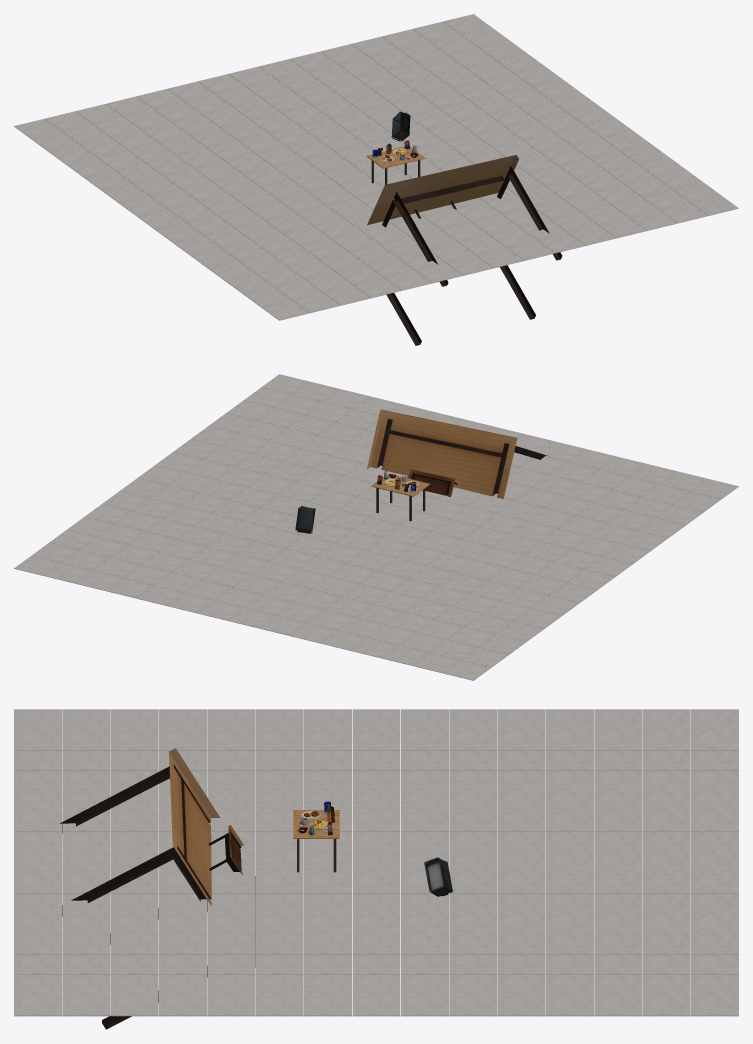
File: viga.glb
The picture shows the model from 3 angles, top to bottom: view 1: azimuth 30°, elevation 25°; view 2: azimuth 150°, elevation 25°; view 3: azimuth 270°, elevation 25°; orthographic projection. The views are drawn at different scales.
Parts seen in each view (by area): view 1: wooden_table_mesh, Stone floor tile, Stone floor tile.150, Stone floor tile.015, Stone floor tile.075, Stone floor tile.090, Stone floor tile.105, Stone floor tile.120, Stone floor tile.165, Stone floor tile.030, Stone floor tile.045, Stone floor tile.060 (+182 smaller); view 2: wooden_table_mesh, wooden_tabletop_mesh, Stone floor tile.014, Stone floor tile.074, Stone floor tile.089, Stone floor tile.194, Stone floor tile.029, Stone floor tile.059, Stone floor tile.119, Stone floor tile.164, Stone floor tile.179, Stone floor tile.224 (+187 smaller); view 3: wooden_table_mesh, Stone floor tile.211, Stone floor tile.212, Stone floor tile.214, Stone floor tile.215, Stone floor tile.219, Stone floor tile.220, Stone floor tile.222, Stone floor tile.223, Stone floor tile.016, Stone floor tile.017, Stone floor tile.019 (+211 smaller).
Part boxes in pixels (x1,y1,x2,y2): wooden_table_mesh: (367, 155, 562, 345); Stone floor tile: (262, 300, 309, 320); Stone floor tile.150: (568, 225, 616, 245); Stone floor tile.015: (292, 292, 340, 313); Stone floor tile.075: (415, 262, 462, 283); Stone floor tile.090: (446, 255, 493, 275); Stone floor tile.105: (476, 248, 524, 268); Stone floor tile.120: (507, 240, 554, 260); Stone floor tile.165: (599, 218, 646, 238); Stone floor tile.030: (323, 285, 370, 305); Stone floor tile.045: (354, 278, 401, 298); Stone floor tile.060: (384, 270, 431, 290); wooden_table_mesh: (367, 409, 547, 498); wooden_tabletop_mesh: (407, 469, 457, 496); Stone floor tile.014: (443, 660, 490, 680); Stone floor tile.074: (320, 630, 368, 650); Stone floor tile.089: (290, 623, 337, 643); Stone floor tile.194: (75, 570, 122, 590); Stone floor tile.029: (412, 653, 460, 673); Stone floor tile.059: (351, 638, 398, 658); Stone floor tile.119: (229, 608, 276, 628); Stone floor tile.164: (136, 585, 184, 605); Stone floor tile.179: (106, 578, 153, 598); Stone floor tile.224: (14, 555, 61, 575); wooden_table_mesh: (60, 748, 255, 1029); Stone floor tile.211: (62, 995, 110, 1016); Stone floor tile.212: (110, 995, 158, 1016); Stone floor tile.214: (207, 995, 255, 1016); Stone floor tile.215: (255, 995, 303, 1016); Stone floor tile.219: (449, 995, 497, 1016); Stone floor tile.220: (497, 995, 545, 1016); Stone floor tile.222: (594, 995, 642, 1016); Stone floor tile.223: (642, 995, 690, 1016); Stone floor tile.016: (62, 729, 110, 750); Stone floor tile.017: (110, 729, 158, 750); Stone floor tile.019: (207, 729, 255, 750).
Size of what is drawn, in the model's own units: 13.36 by 4.04 by 13.36.
254 materials, 246 textured.
